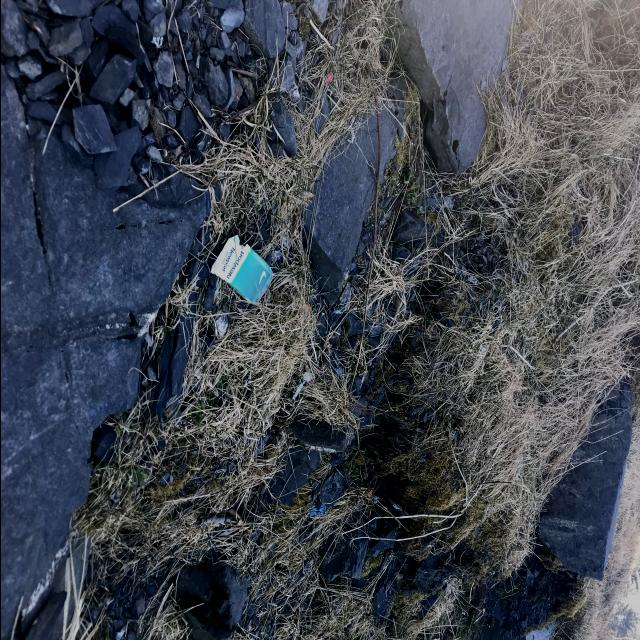Other carton: (209, 234, 272, 305)
Other plastic bottle: (325, 72, 331, 82)
Unlabeled litter: (291, 381, 305, 399), (309, 505, 325, 516), (302, 374, 312, 381), (333, 310, 341, 314)
